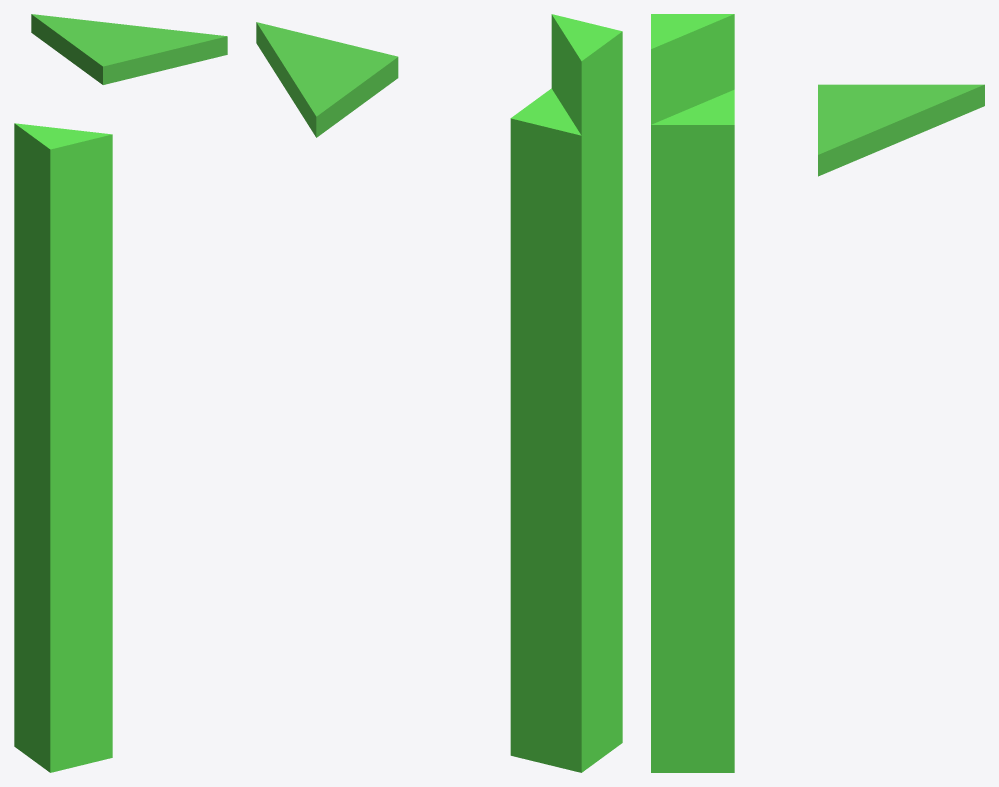
File: ModuleAssembly_layer1_5.obj
3 renders of one model, left to right at view 1: azimuth 30°, elevation 25°; view 2: azimuth 150°, elevation 25°; view 3: azimuth 270°, elevation 25°, orthographic. The views are drawn at different scales.
Visible parts, largest first — view 1: object_2, object_1, object_3; view 2: object_2, object_1, object_3; view 3: object_2, object_1, object_3.
Boxes of the visible parts, bbox=[...] form: object_2: bbox=[14, 188, 112, 772]; object_1: bbox=[31, 14, 227, 84]; object_3: bbox=[14, 123, 112, 214]; object_2: bbox=[510, 88, 622, 772]; object_1: bbox=[256, 22, 398, 137]; object_3: bbox=[551, 14, 622, 135]; object_2: bbox=[651, 89, 734, 772]; object_1: bbox=[818, 84, 984, 176]; object_3: bbox=[651, 14, 734, 124].
Size of the model in its own units: 0.14 by 0.335 by 0.14.
